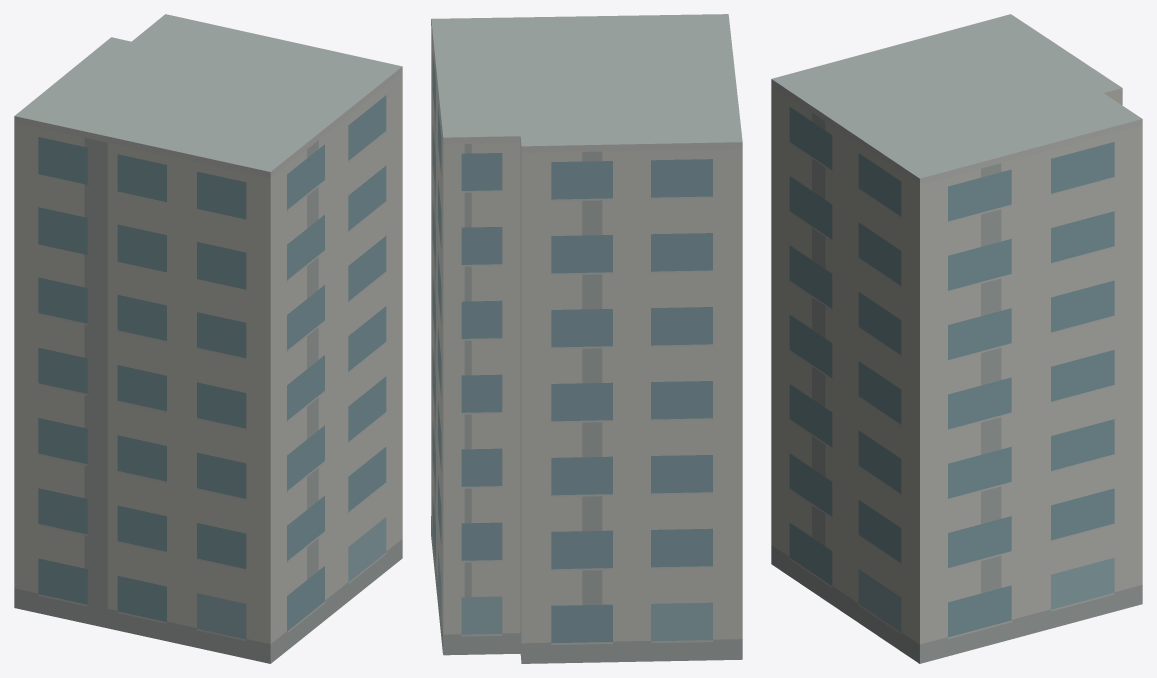
File: survey-upis-32841403.glb
3 renders of one model, left to right at view 1: azimuth 30°, elevation 25°; view 2: azimuth 150°, elevation 25°; view 3: azimuth 270°, elevation 25°, orthographic. The views are drawn at different scales.
Visible parts, largest first — view 1: survey-upis-32841403.tmp; view 2: survey-upis-32841403.tmp; view 3: survey-upis-32841403.tmp.
Boxes of the visible parts, x1,y1,x2,y2 form: survey-upis-32841403.tmp: (14,14,402,663); survey-upis-32841403.tmp: (431,14,742,663); survey-upis-32841403.tmp: (771,14,1142,663).
Size of the model in its own units: 13.55 by 18.6 by 12.91.
